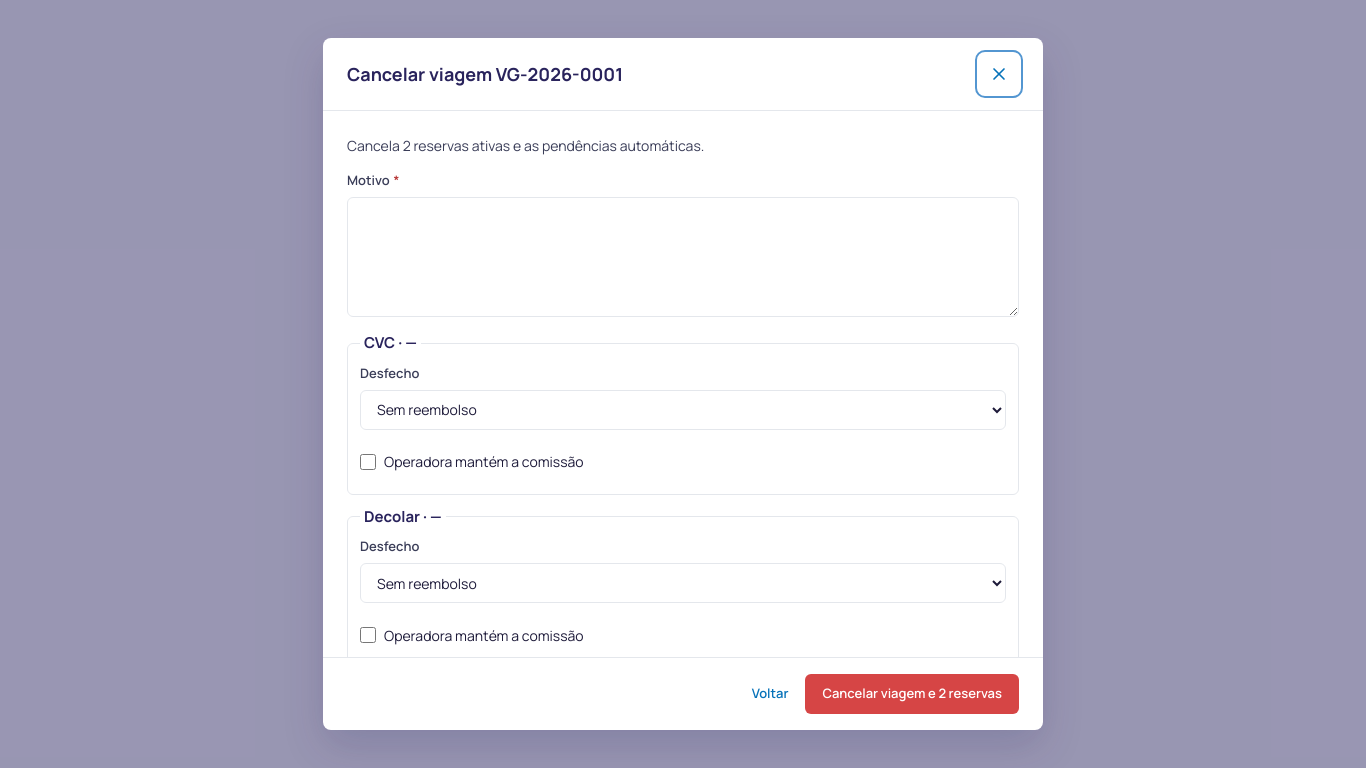
Test: 422 de desfecho aparece no bloco, não sob um campo
Type "Cliente cancelou tudo" into the text box labelled "Motivo *" at (683, 257), box x1=347 y1=197 x2=1019 y2=317
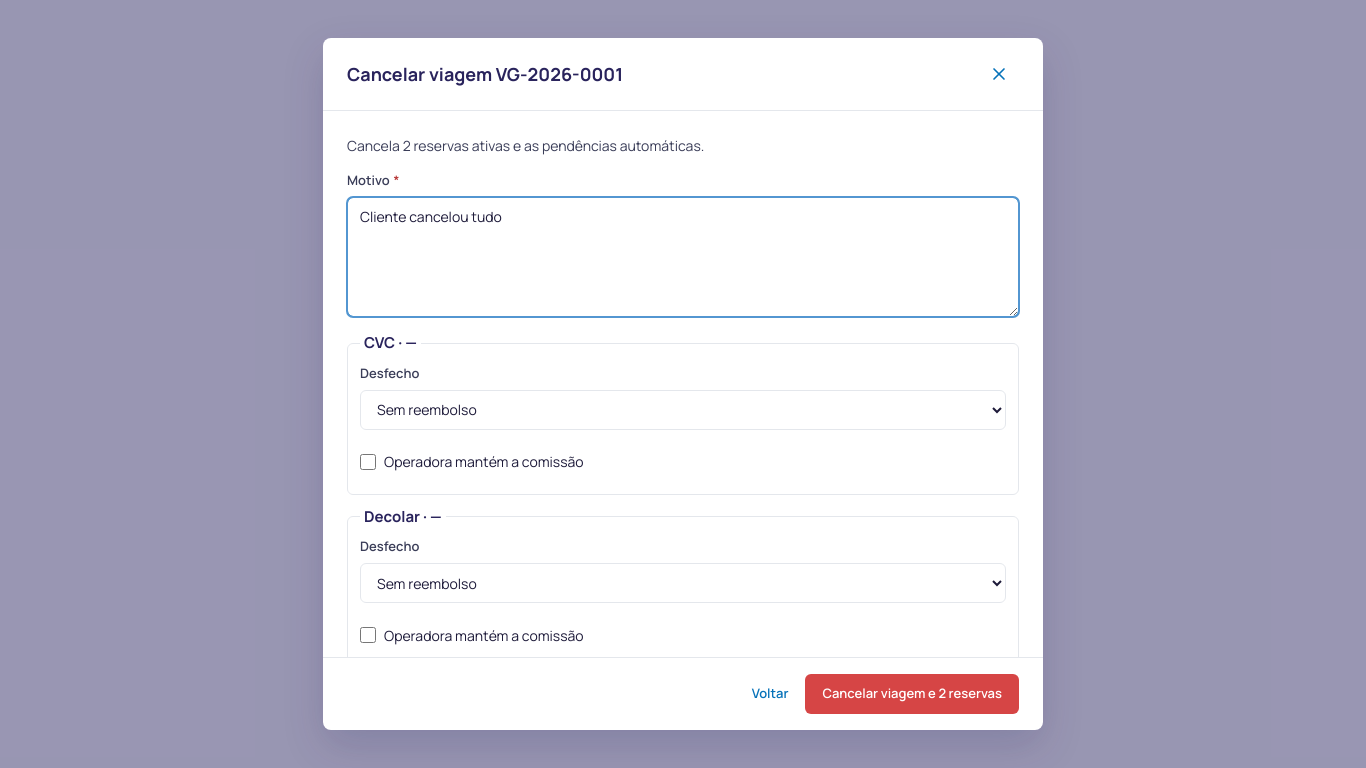
Click the button "Cancelar viagem e 2 reservas" at (912, 694), box x1=805 y1=674 x2=1019 y2=714
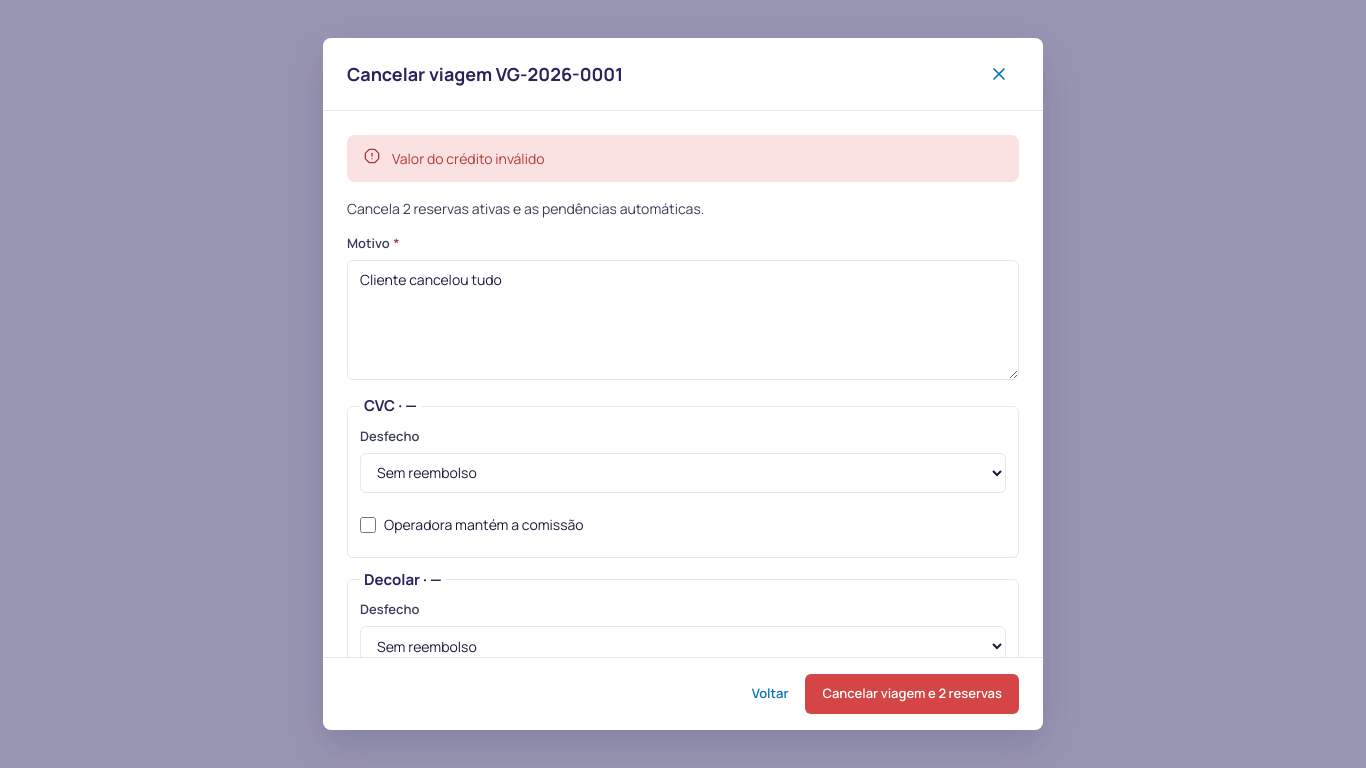
Check: the text "Valor do crédito inválido" is shown, box x1=392 y1=149 x2=544 y2=168
